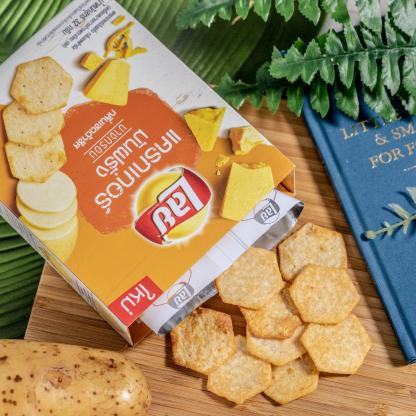potatochip: (0, 0, 304, 349)
